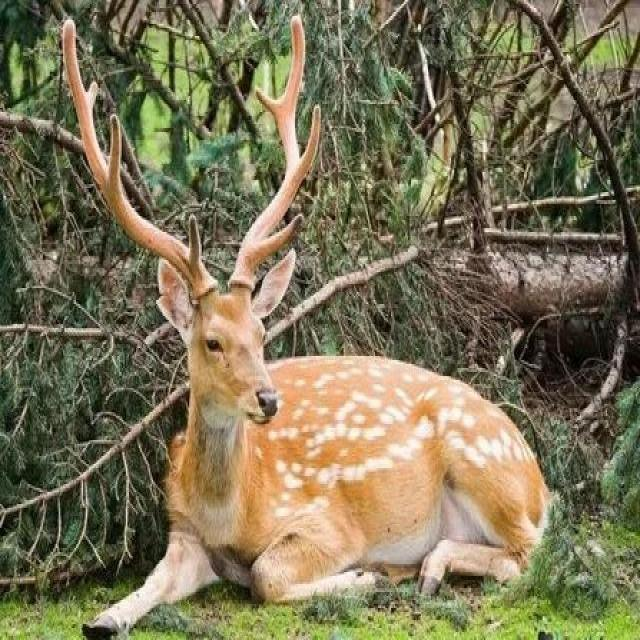deer: (64, 88, 562, 635)
